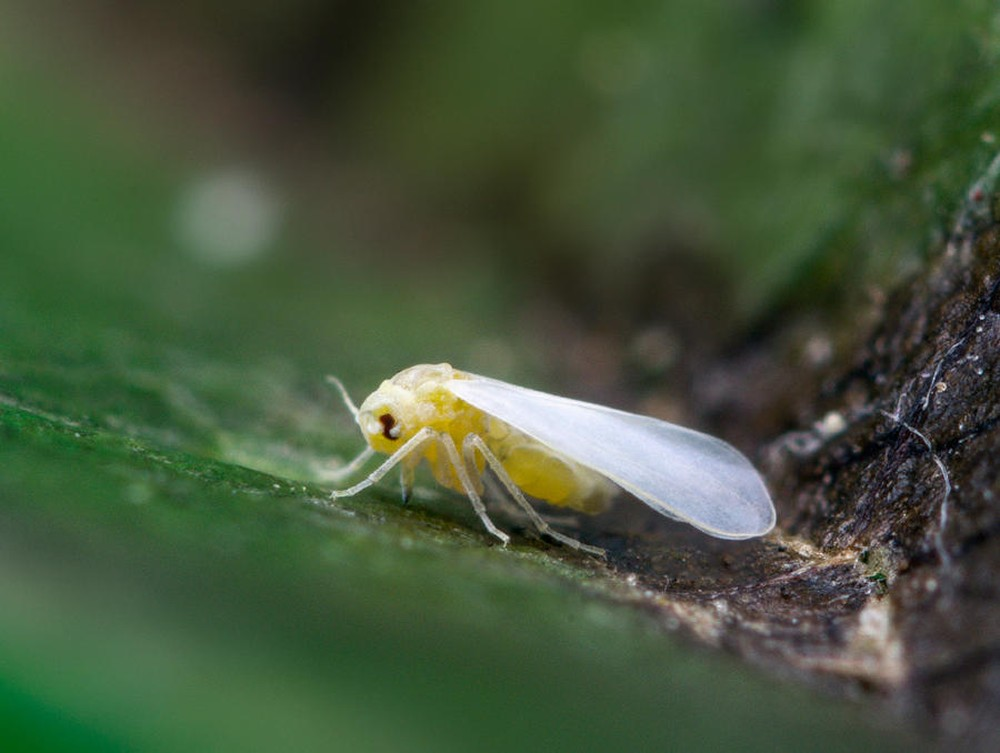Mosca Blanca: (308, 337, 783, 596)
